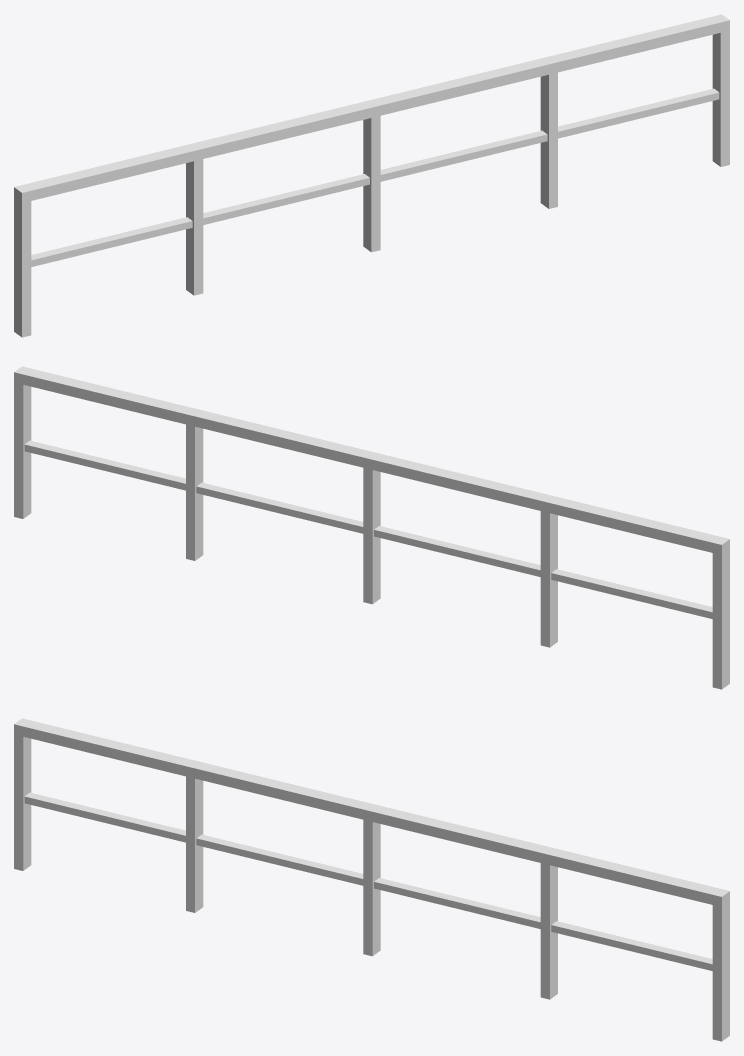
File: Partitions_055.glb
The picture shows the model from 3 angles, top to bottom: view 1: azimuth 30°, elevation 25°; view 2: azimuth 150°, elevation 25°; view 3: azimuth 330°, elevation 25°; orthographic projection.
Parts seen in each view (by area): view 1: Partitions_055; view 2: Partitions_055; view 3: Partitions_055.
Part boxes in pixels (box(x1,y1,x2,y2)): Partitions_055: box(14, 14, 729, 337); Partitions_055: box(14, 366, 729, 689); Partitions_055: box(14, 718, 729, 1041).
Bounding box in the file's own units: 4 × 0.781 × 0.0793.
1 material, 1 textured.
